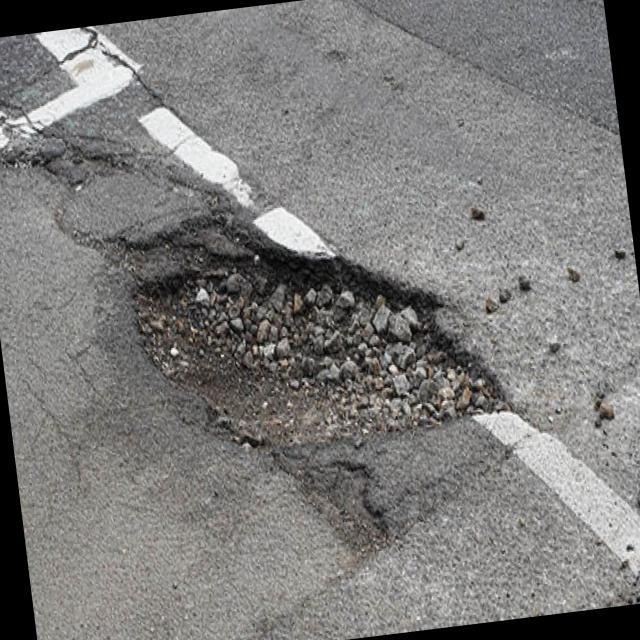Pothole: (110, 200, 516, 506), (0, 70, 121, 218)
